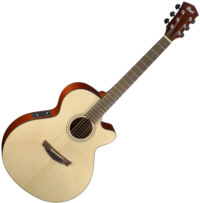guitar: (1, 1, 198, 203)
